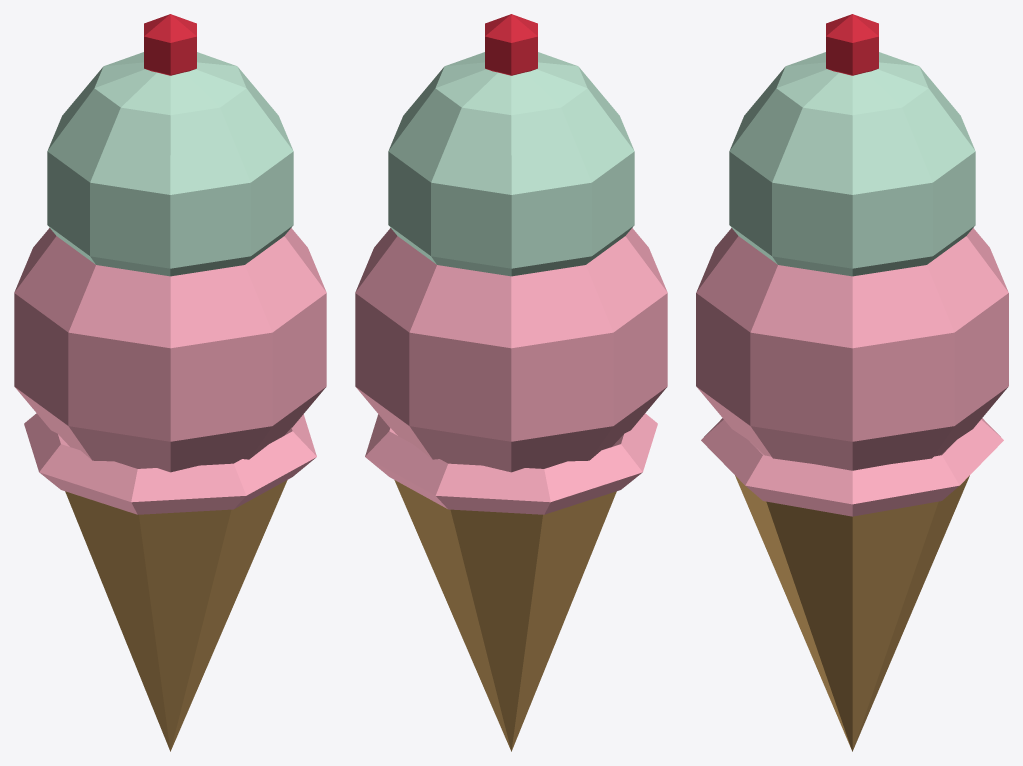
Rendered from Food_IceCream.obj.
3 views of the same model, side by side, from view 1: azimuth 30°, elevation 25°; view 2: azimuth 150°, elevation 25°; view 3: azimuth 270°, elevation 25° (orthographic).
Size of the model in its own units: 1.23 by 3.22 by 1.24.
